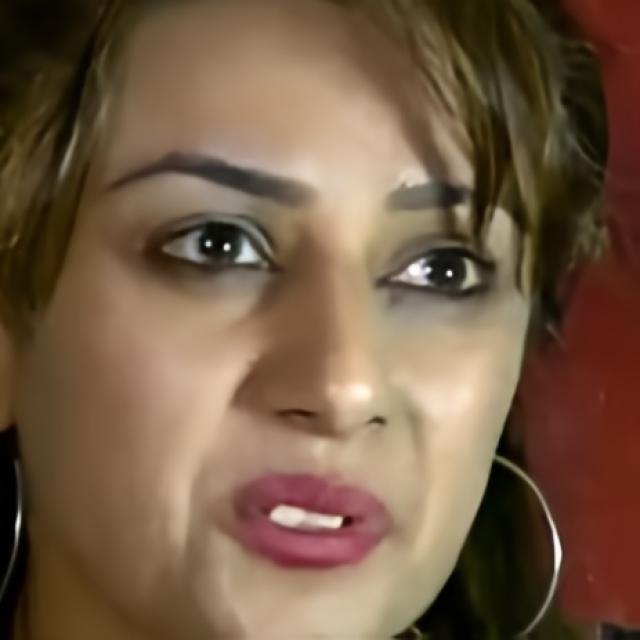disgust: (16, 0, 533, 640)
